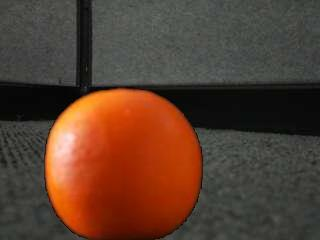Orange: (44, 88, 203, 239)
